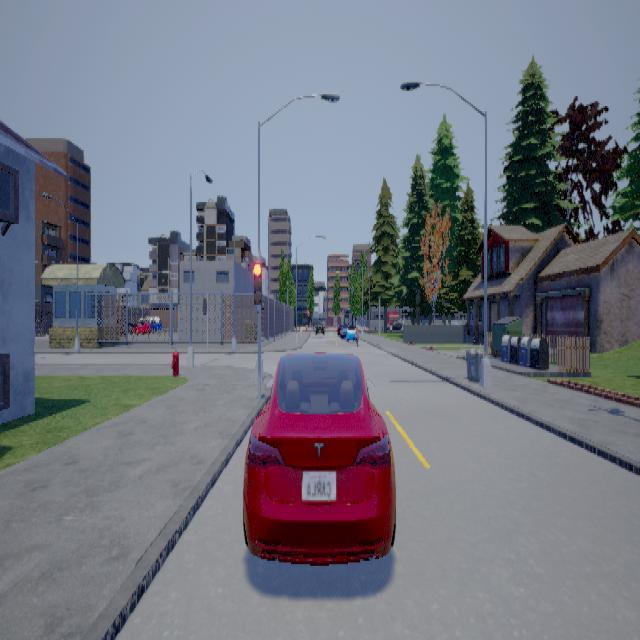red_light: (255, 252, 263, 312)
vehicle: (244, 350, 397, 564)
